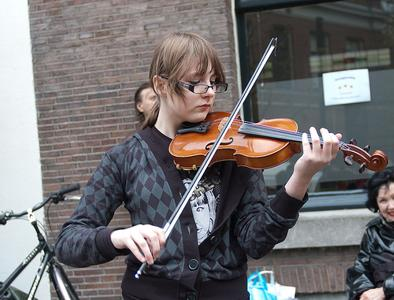person: (55, 34, 343, 300)
